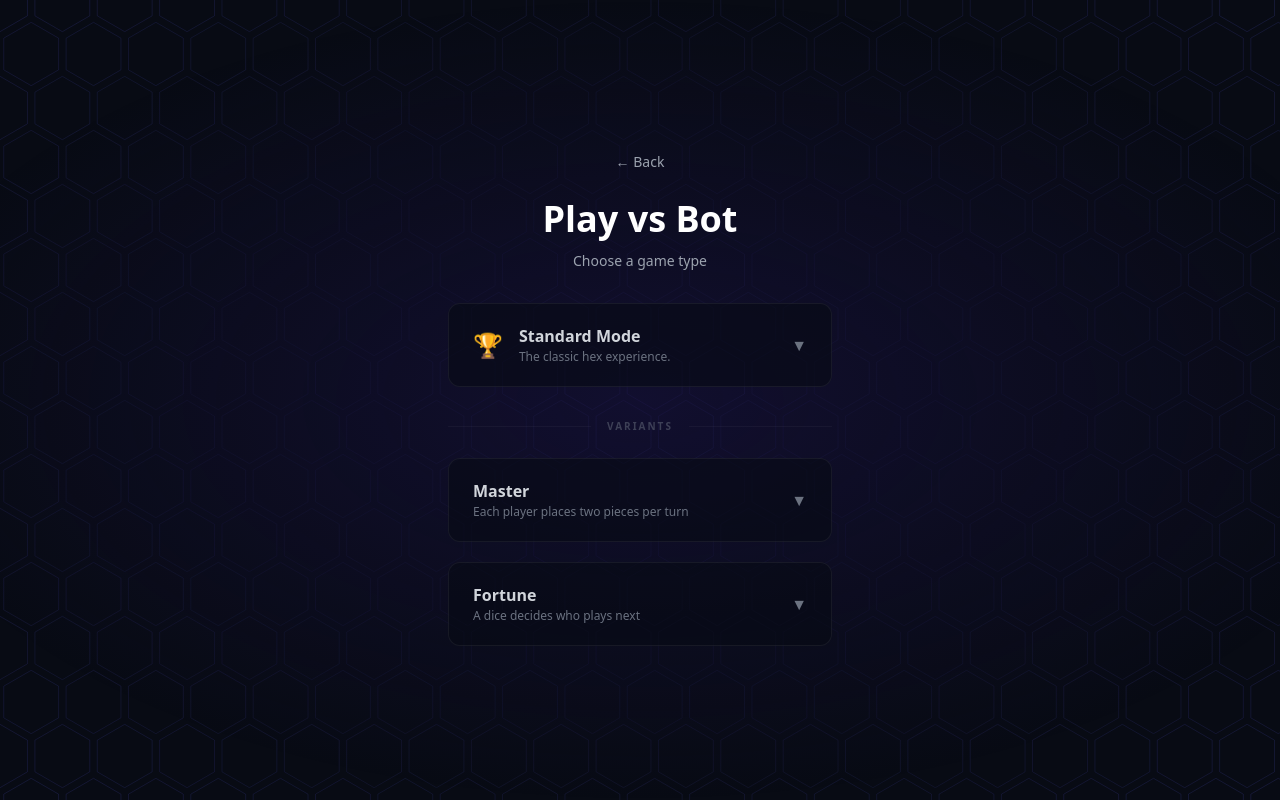
GameSelect Component › UI interactions › can toggle standard panel open and close
Expected: the text "Board Size:" is not shown
Click the text "Standard Mode".
click(580, 336)  # box [519,324,640,346]
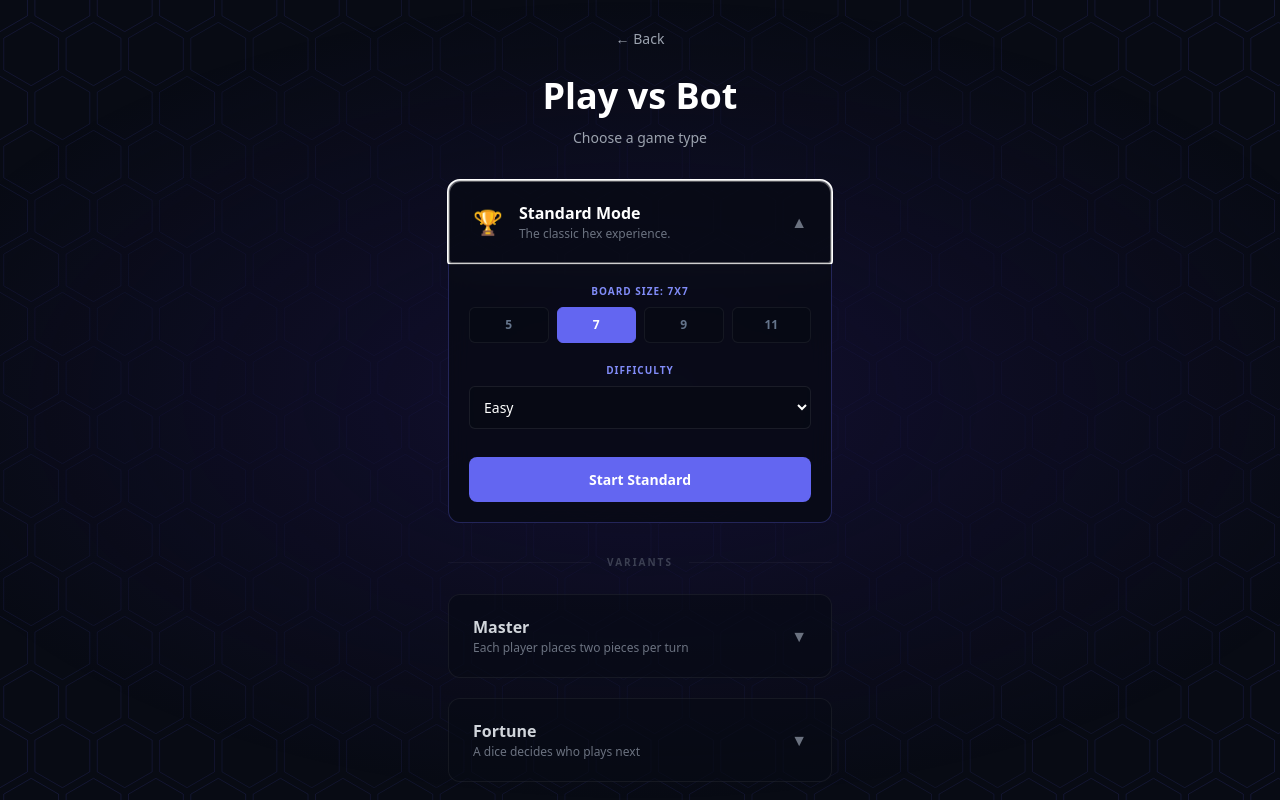
Result: the text "Board Size: 7x7" is shown at [591,284,689,298]
Click the text "Standard Mode".
click(580, 213)  # box [519,202,640,224]
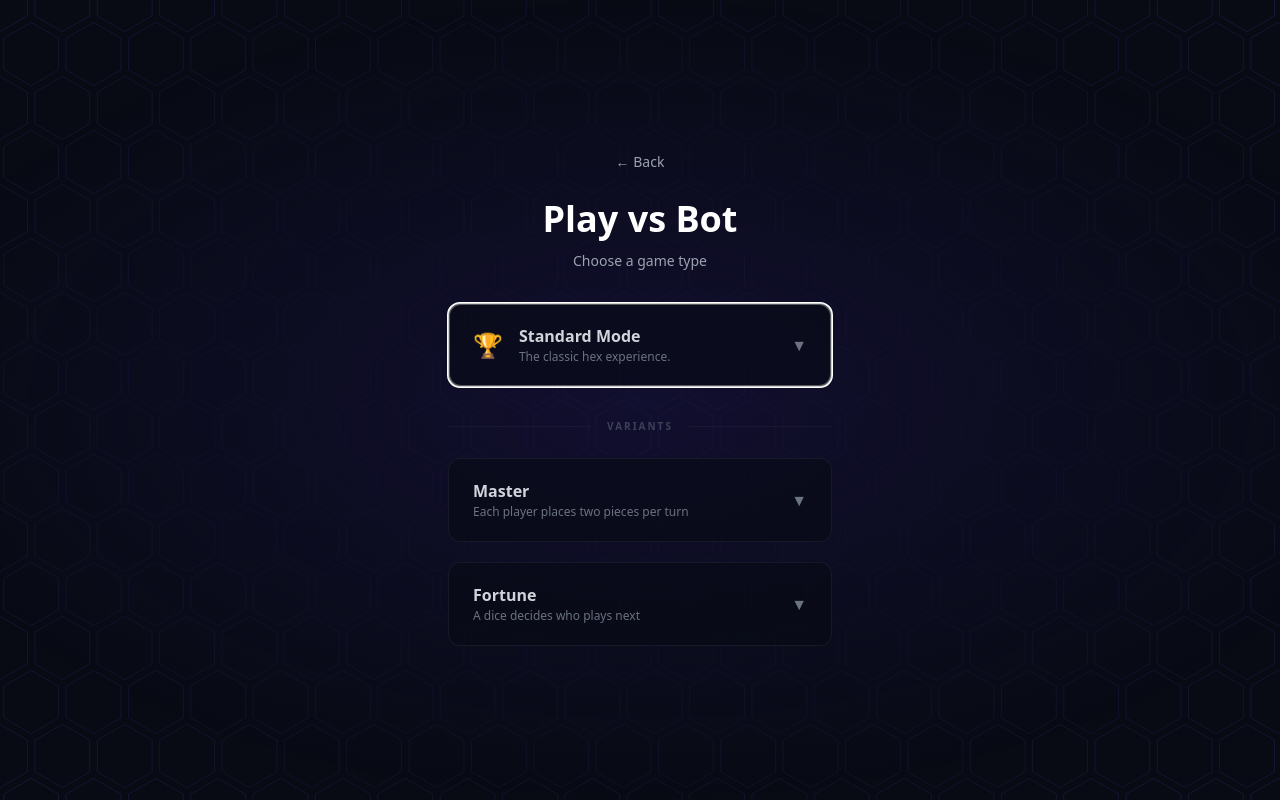
Result: the text "Board Size:" is gone
